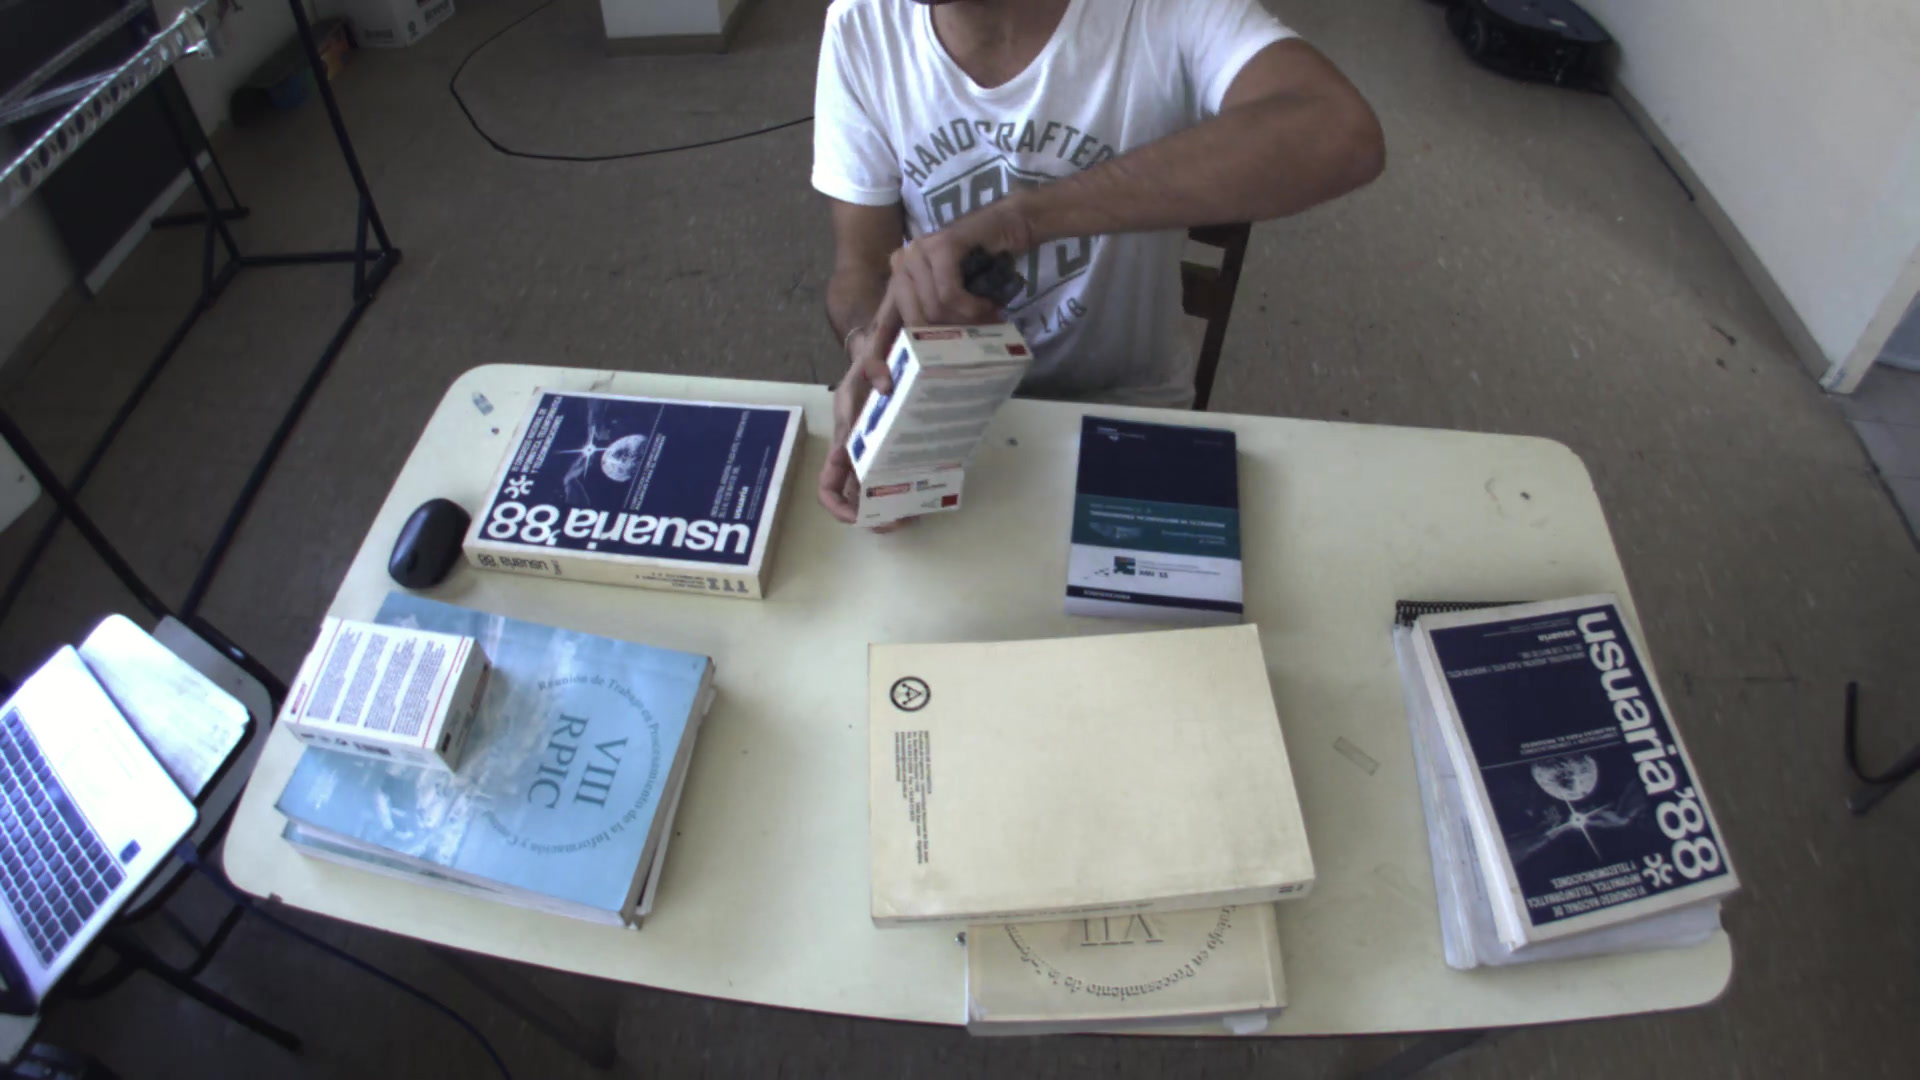hand: (836, 214, 1007, 385)
